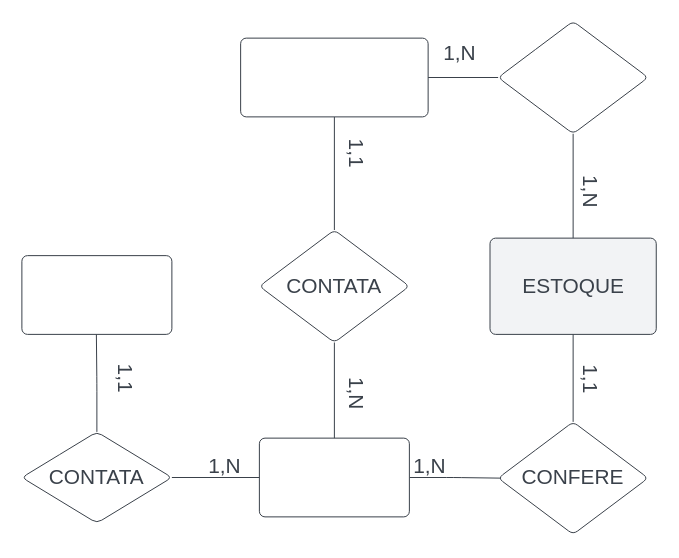
Some shapes in this 679 by 558 pixel diagram are drawn without their labels. Here are the shapes that lost their labels. From the top down, the centre of each, then its label:
At [334,77]: "FORNECEDORES".
At [572,77]: "PREENCHE".
At [96,294]: "DPT. DE VEICULOS".
At [333,477]: "DPT. DE COMPRAS".
